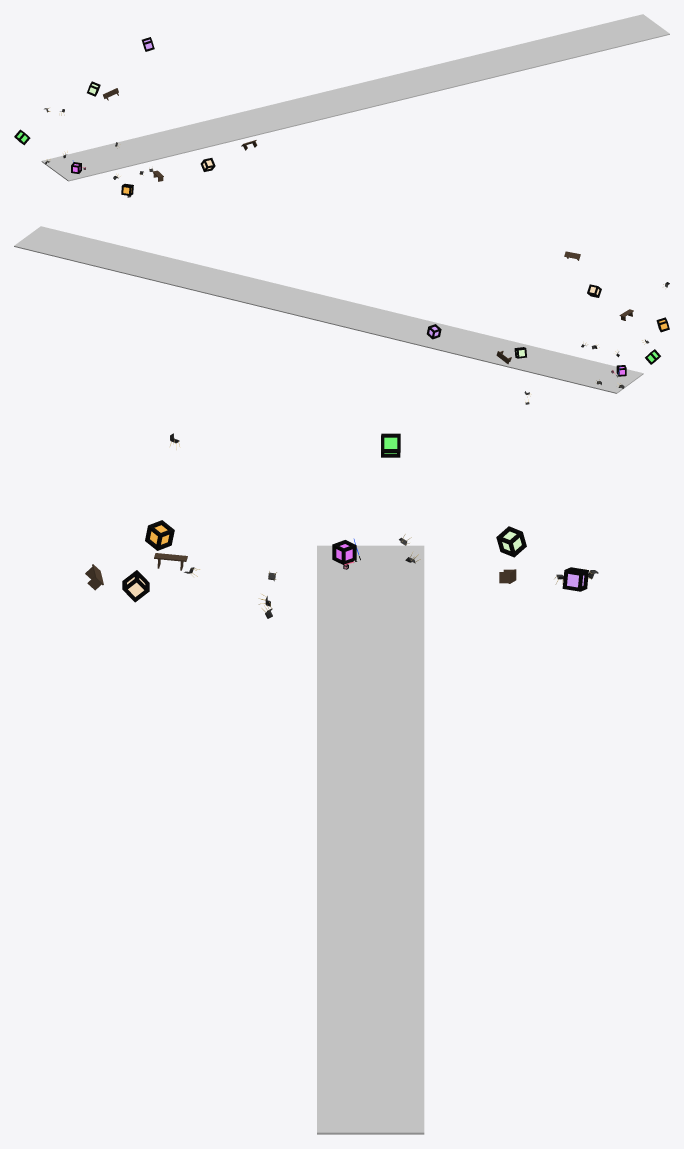
The model's file is level_RENDER.glb.
3 views of the same model, one above another, from view 1: azimuth 30°, elevation 25°; view 2: azimuth 150°, elevation 25°; view 3: azimuth 270°, elevation 25° (orthographic). The views are drawn at different scales.
Visible parts, largest first — view 1: Cube; view 2: Cube; view 3: Cube.
Part boxes in pixels (<box>): Cube: <box>41,14,669,181</box>; Cube: <box>14,226,643,393</box>; Cube: <box>317,545,424,1134</box>.
Size of the model in its own units: 85.49 by 8.12 by 29.94.
